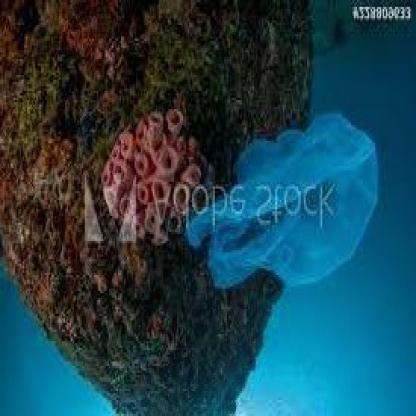pbag: (182, 102, 384, 298)
